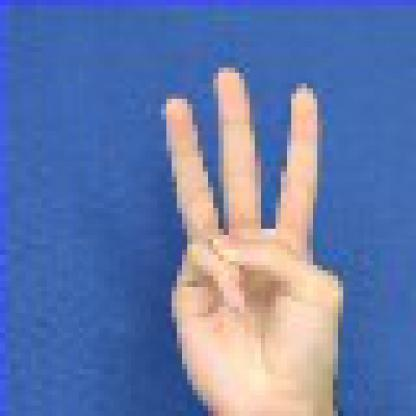three: (120, 62, 369, 411)
